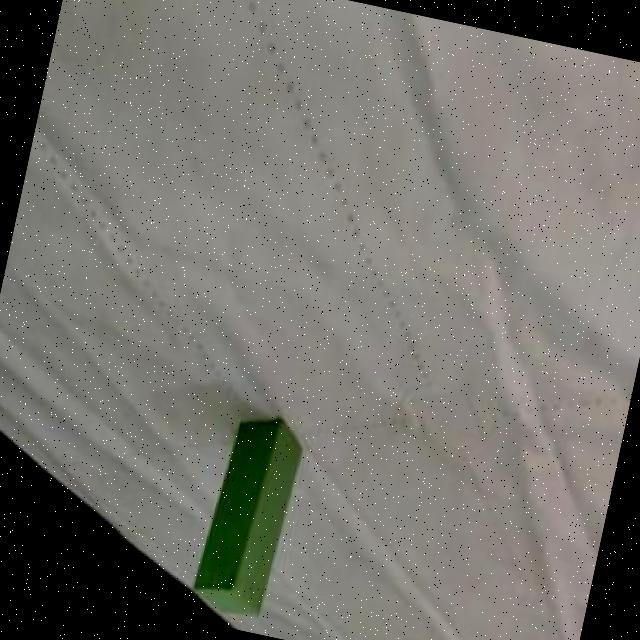greenbox: (184, 403, 311, 626)
